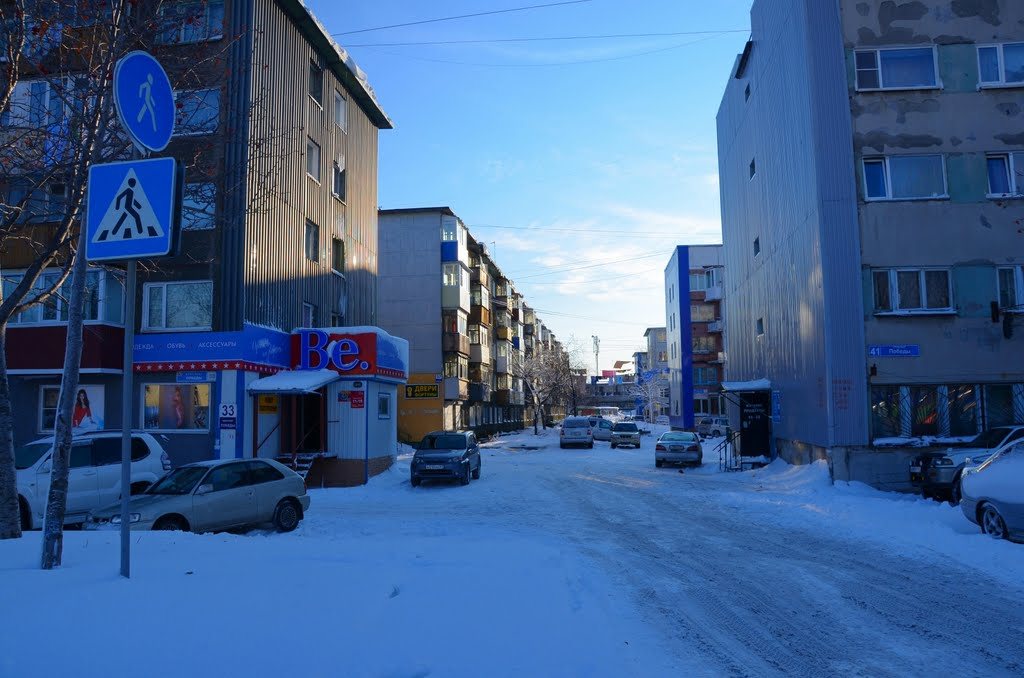sign: (82, 152, 177, 261), (109, 44, 182, 158)
